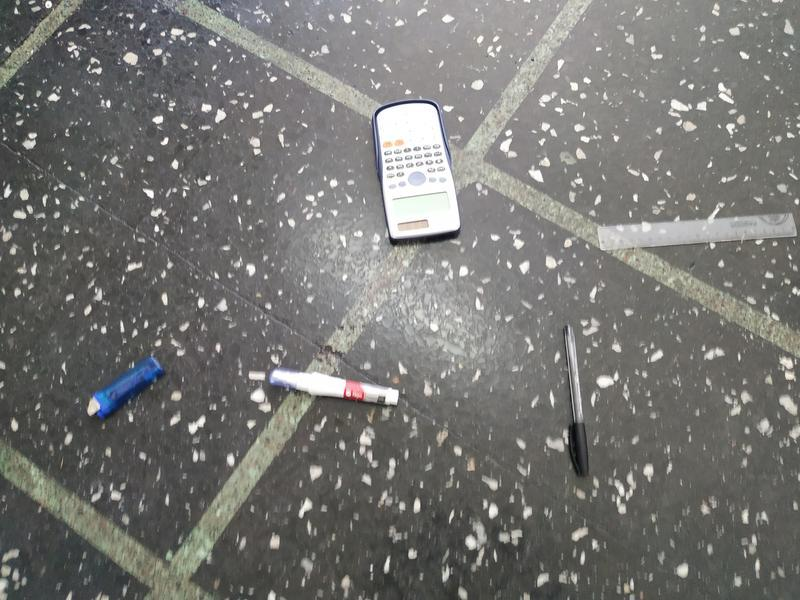calculadora: (369, 101, 470, 244)
corrector: (259, 353, 406, 417)
encendedor: (77, 352, 168, 423)
lapicera: (545, 322, 604, 481)
regla: (591, 207, 800, 258)
